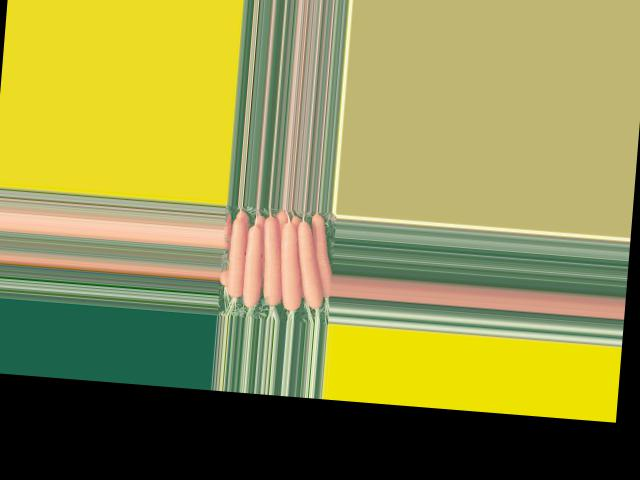carrot: (304, 215, 337, 300)
